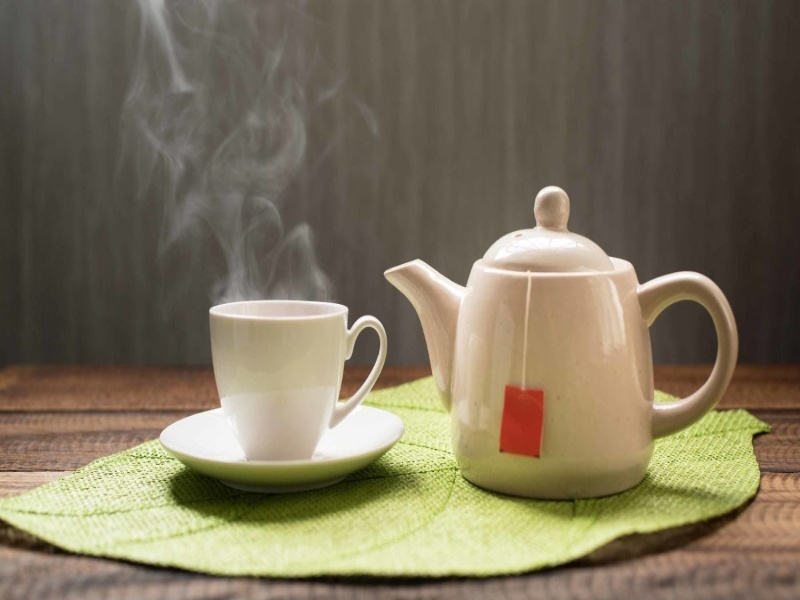smoke: (150, 1, 322, 315)
